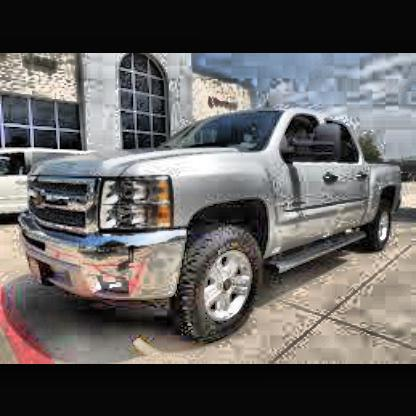Chevrolet Silverado 1500 Hybrid Crew Cab 2012: (19, 107, 412, 349)
